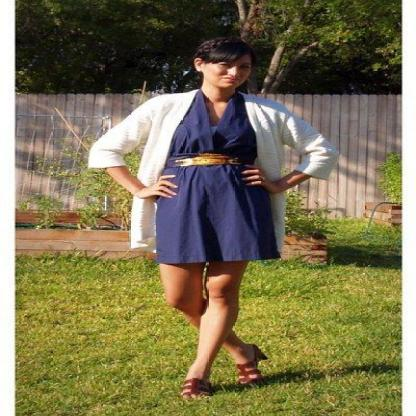dress: (154, 88, 280, 264)
jacket: (88, 88, 346, 253)
shoe: (178, 344, 267, 399)
